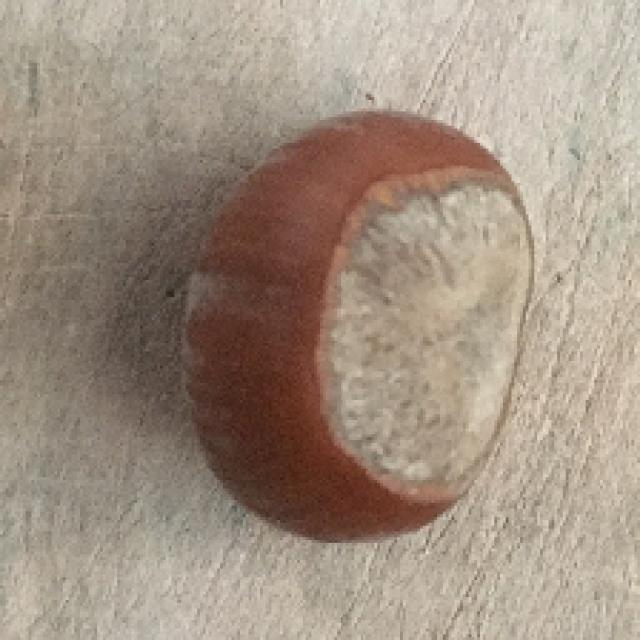qualityHazelnut: (162, 108, 552, 540)
